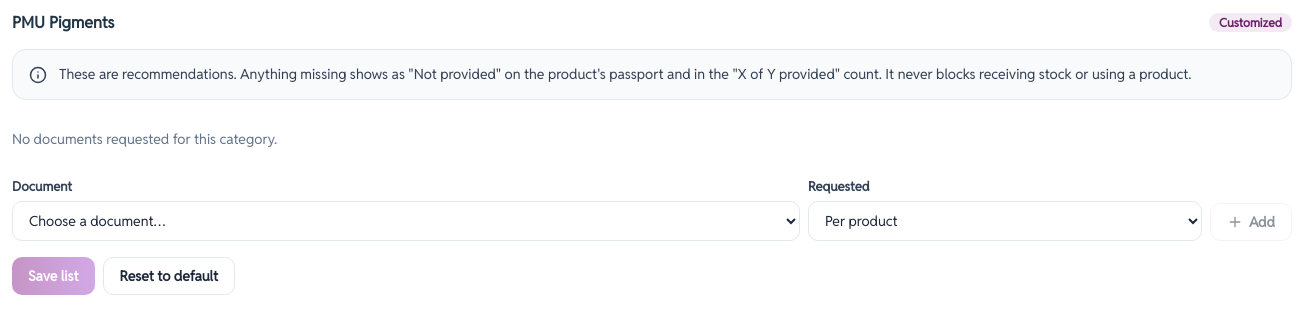
Test: ChecklistEditor › resets a customized list to the default
The width and height of the screenshot is (1304, 312).
What coordinates should you click on to do the following:
click the button "Reset to default"
I would click on:
 (169, 276)
Its box is [102,257,235,295].
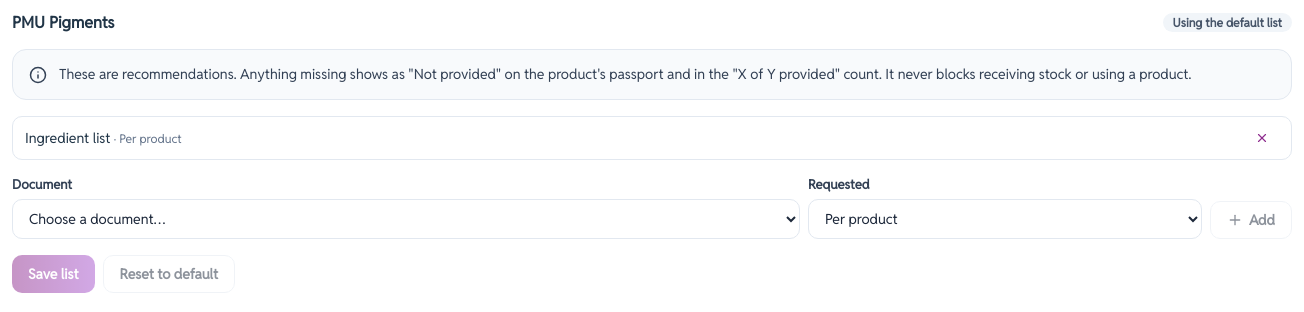
Result: the text "Using the default list" is shown at [1162,13,1292,32]
